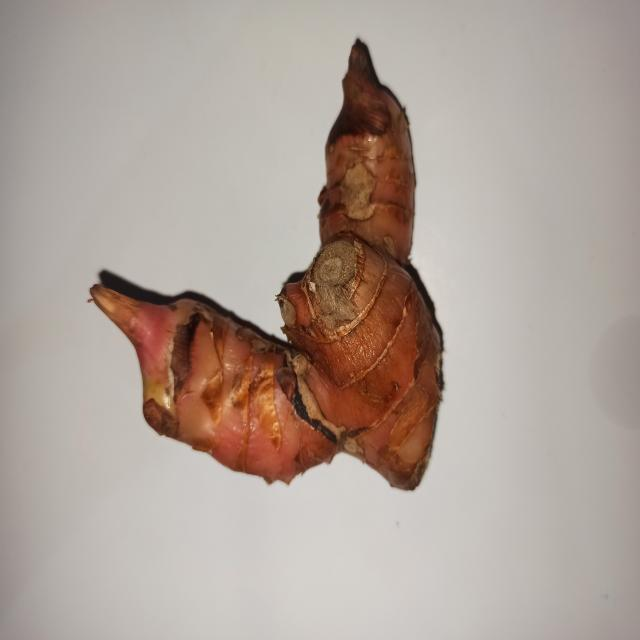ginger: (102, 84, 464, 476)
